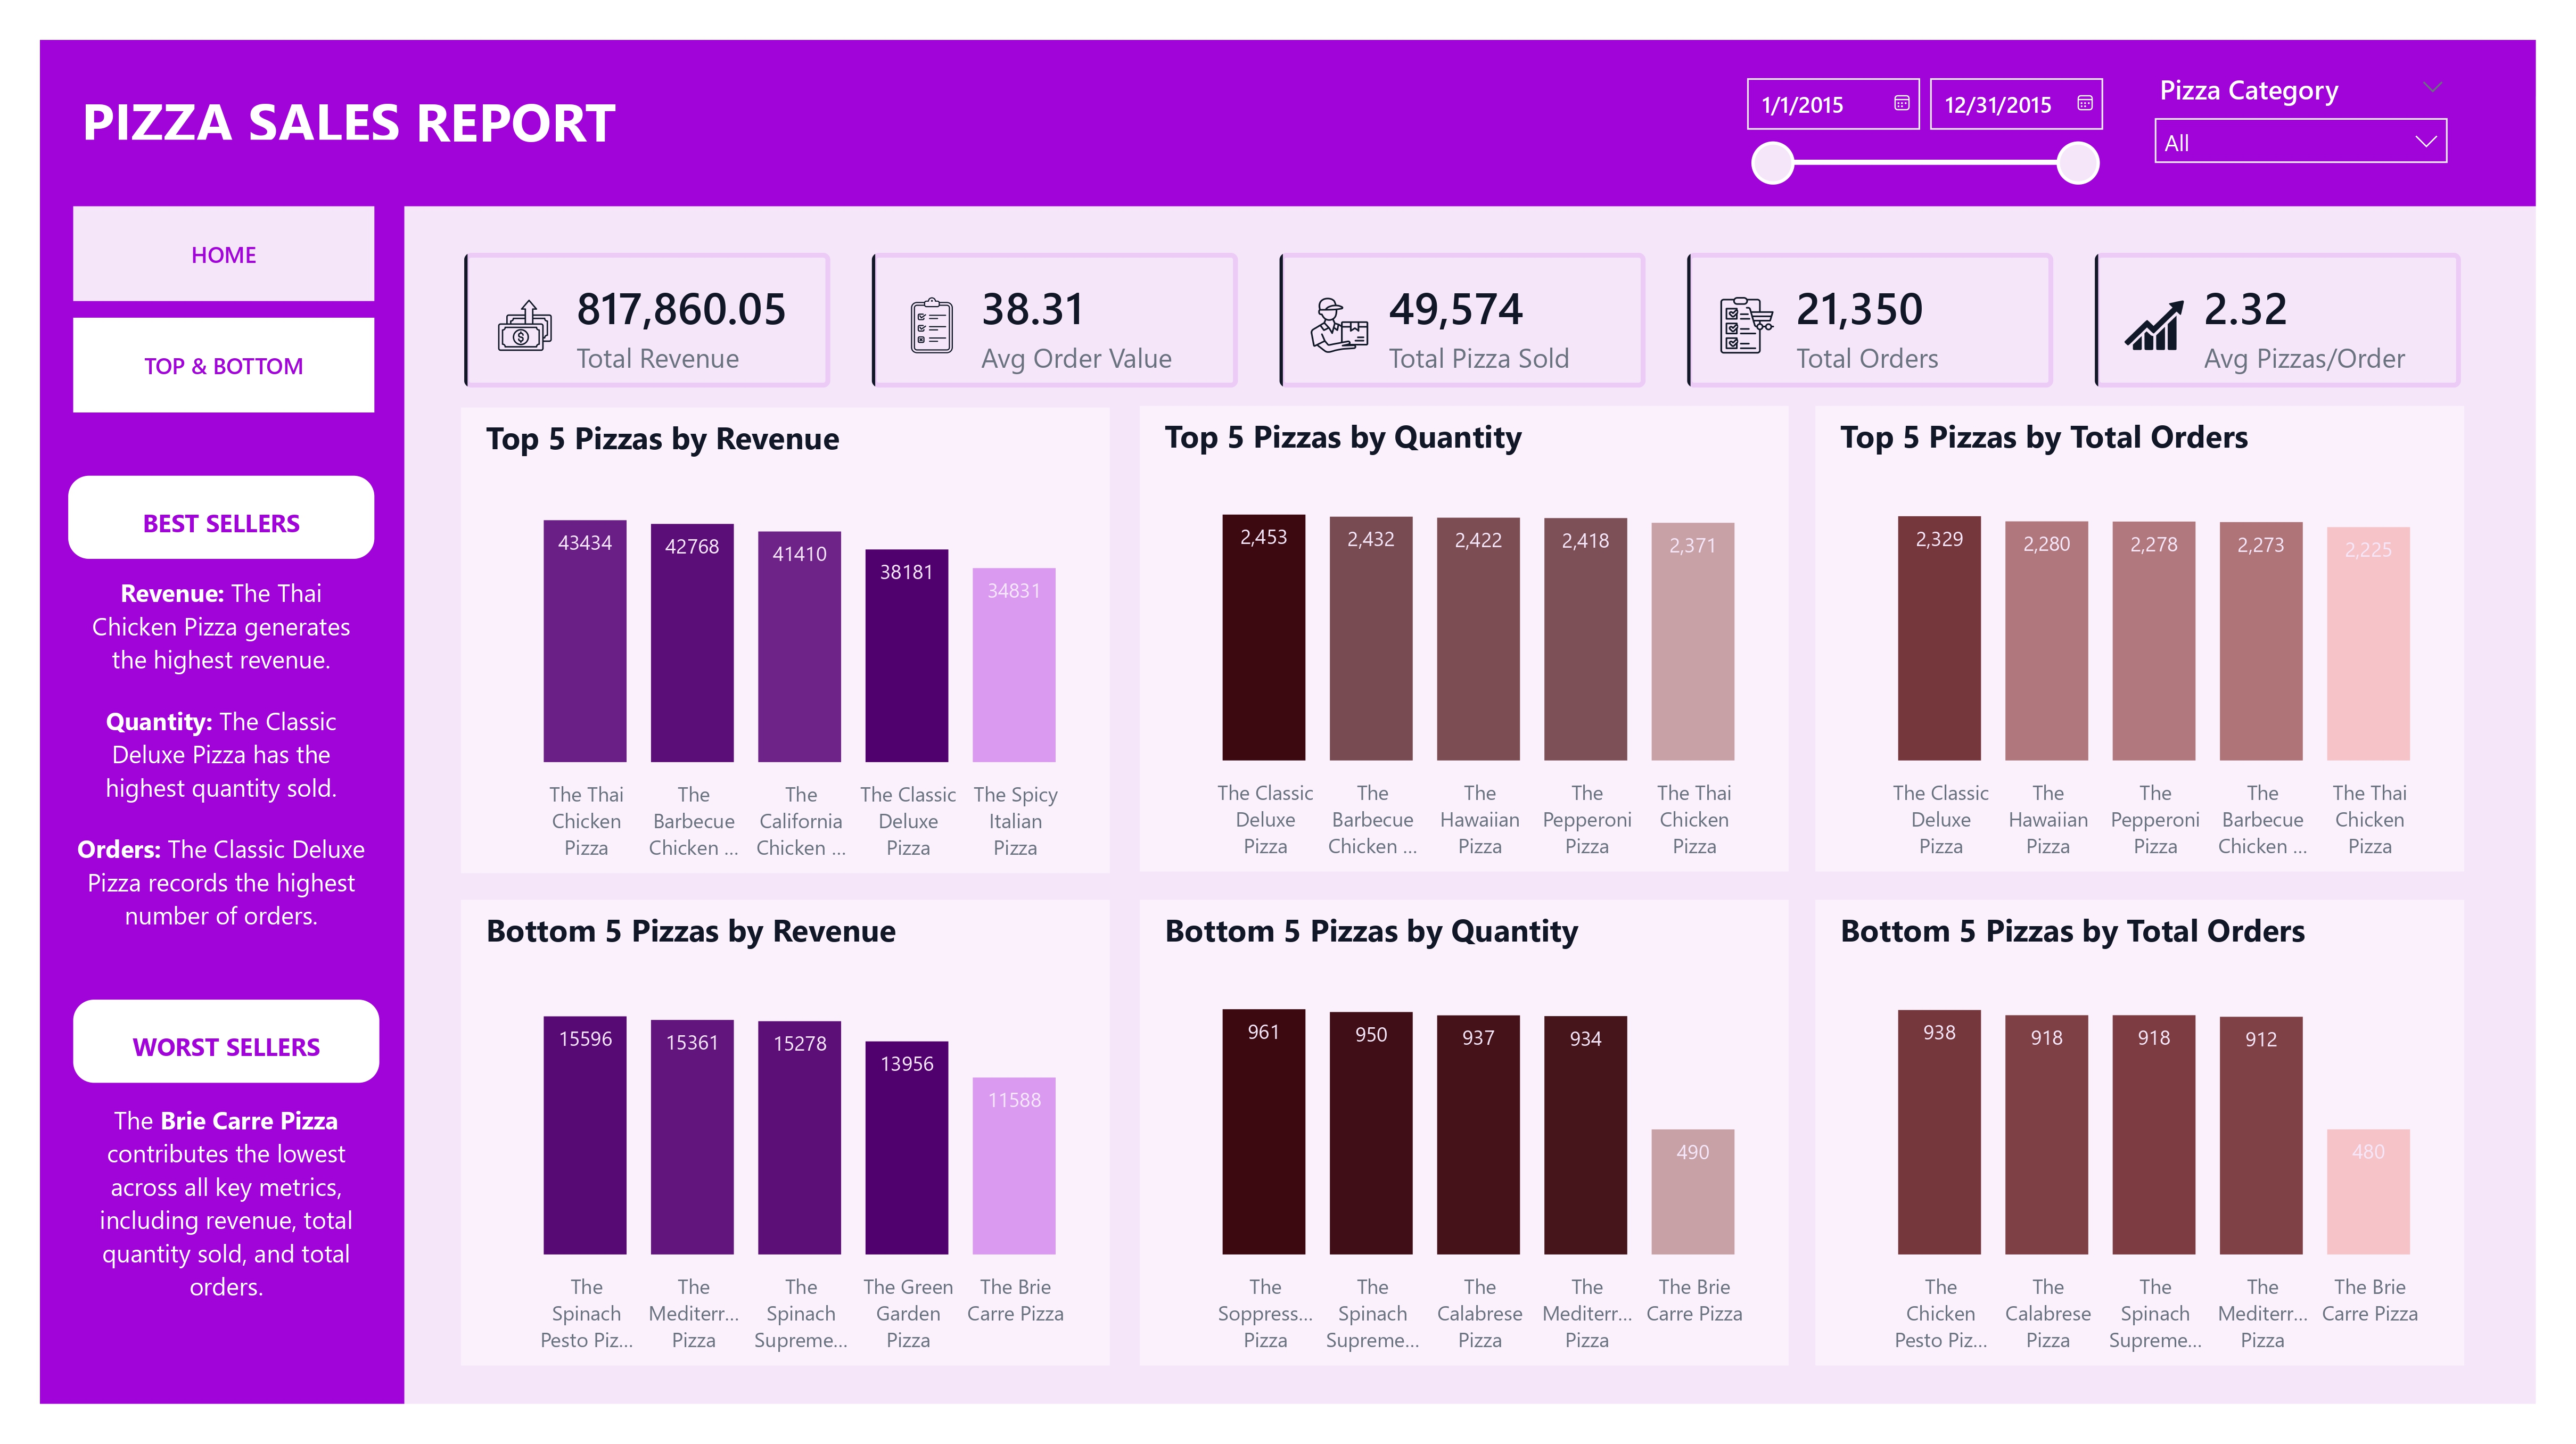

This screenshot's page, from the dashboard's own definition file:
{"tool":"powerbi","page":{"name":"TOP & BOTTOM","canvas":[1500,820],"ordinal":1},"visuals":[{"type":"cardVisual","fields":{"Data":["pizza_sales pizza_sales.Total Revenue","pizza_sales pizza_sales.Average Order Value","pizza_sales pizza_sales.Total Pizza Sold","pizza_sales pizza_sales.Total Orders","pizza_sales pizza_sales.Average Pizzas per order"]},"box":[240,112.9,1230,111.4],"z":0},{"type":"shape","box":[0,0,1500,100],"z":1000},{"type":"textbox","box":[20,21.4,964.3,58.6],"z":2000},{"type":"columnChart","title":"Top 5 Pizzas by Revenue","fields":{"Category":["pizza_sales pizza_sales.pizza_name"],"Y":["pizza_sales pizza_sales.Total Revenue"]},"box":[252.9,220.6,390,280],"z":3000},{"type":"shape","box":[0,60,218.6,760],"z":4000},{"type":"shape","box":[17.1,262.5,184.3,50],"z":5000},{"type":"textbox","box":[17.1,275.3,184.3,35.7],"z":6000},{"type":"textbox","box":[17.1,317.1,184.3,235.7],"z":7000},{"type":"shape","box":[20,577,184.3,50],"z":8000},{"type":"textbox","box":[20,589.9,184.3,35.7],"z":9000},{"type":"textbox","box":[20,634.5,184.3,157.1],"z":10000},{"type":"slicer","fields":{"Values":["pizza_sales pizza_sales.pizza_category"]},"box":[1261.4,14.3,195.7,75.7],"z":11000},{"type":"slicer","fields":{"Values":["pizza_sales pizza_sales.order_date"]},"box":[1012.9,12.9,232.9,75.7],"z":12000},{"type":"columnChart","title":"Bottom 5 Pizzas by Revenue","fields":{"Category":["pizza_sales pizza_sales.pizza_name"],"Y":["pizza_sales pizza_sales.Total Revenue"]},"box":[252.9,517.1,390,280],"z":13000},{"type":"columnChart","title":"Top 5 Pizzas by Quantity","fields":{"Category":["pizza_sales pizza_sales.pizza_name"],"Y":["pizza_sales pizza_sales.Total Pizza Sold"]},"box":[661.4,220,390,280],"z":14000},{"type":"columnChart","title":"Bottom 5 Pizzas by Quantity","fields":{"Category":["pizza_sales pizza_sales.pizza_name"],"Y":["pizza_sales pizza_sales.Total Pizza Sold"]},"box":[661.4,517.1,390,280],"z":15000},{"type":"columnChart","title":"Top 5 Pizzas by Total Orders","fields":{"Category":["pizza_sales pizza_sales.pizza_name"],"Y":["pizza_sales pizza_sales.Total Orders"]},"box":[1067.1,220,390,280],"z":16000},{"type":"columnChart","title":"Bottom 5 Pizzas by Total Orders","fields":{"Category":["pizza_sales pizza_sales.pizza_name"],"Y":["pizza_sales pizza_sales.Total Orders"]},"box":[1067.1,517.1,390,280],"z":17000},{"type":"pageNavigator","box":[20,100,181.4,124.3],"z":17001}]}

Visuals, with their boxes on the page's 1500x820 design canvas (x1, y1, x2, y2). These are canvas units, not pixel positions in the 2576x1444 screenshot, which may show the page scaled, cropped or inside an application window:
cardVisual - pizza_sales pizza_sales.Total Revenue x pizza_sales pizza_sales.Average Order Value: pyautogui.locateOnScreen(240, 113, 1470, 224)
shape: pyautogui.locateOnScreen(0, 0, 1500, 100)
textbox: pyautogui.locateOnScreen(20, 21, 984, 80)
"Top 5 Pizzas by Revenue" columnChart: pyautogui.locateOnScreen(253, 221, 643, 501)
shape: pyautogui.locateOnScreen(0, 60, 219, 820)
shape: pyautogui.locateOnScreen(17, 262, 201, 312)
textbox: pyautogui.locateOnScreen(17, 275, 201, 311)
textbox: pyautogui.locateOnScreen(17, 317, 201, 553)
shape: pyautogui.locateOnScreen(20, 577, 204, 627)
textbox: pyautogui.locateOnScreen(20, 590, 204, 626)
textbox: pyautogui.locateOnScreen(20, 634, 204, 792)
slicer - pizza_sales pizza_sales.pizza_category: pyautogui.locateOnScreen(1261, 14, 1457, 90)
slicer - pizza_sales pizza_sales.order_date: pyautogui.locateOnScreen(1013, 13, 1246, 89)
"Bottom 5 Pizzas by Revenue" columnChart: pyautogui.locateOnScreen(253, 517, 643, 797)
"Top 5 Pizzas by Quantity" columnChart: pyautogui.locateOnScreen(661, 220, 1051, 500)
"Bottom 5 Pizzas by Quantity" columnChart: pyautogui.locateOnScreen(661, 517, 1051, 797)
"Top 5 Pizzas by Total Orders" columnChart: pyautogui.locateOnScreen(1067, 220, 1457, 500)
"Bottom 5 Pizzas by Total Orders" columnChart: pyautogui.locateOnScreen(1067, 517, 1457, 797)
pageNavigator: pyautogui.locateOnScreen(20, 100, 201, 224)
